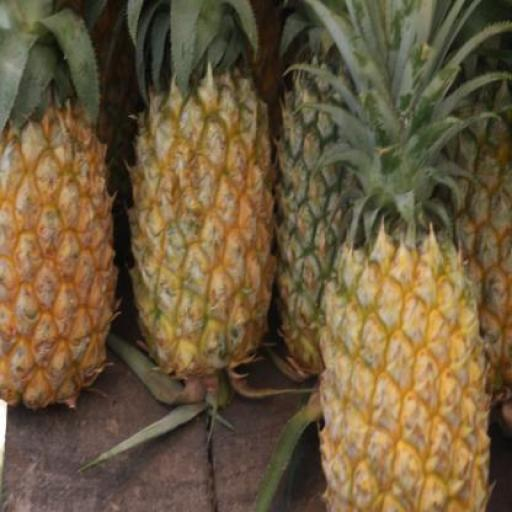------------------------------: (128, 79, 272, 386)
Pineapple - v8 v1: (318, 236, 488, 511), (0, 117, 116, 405)
